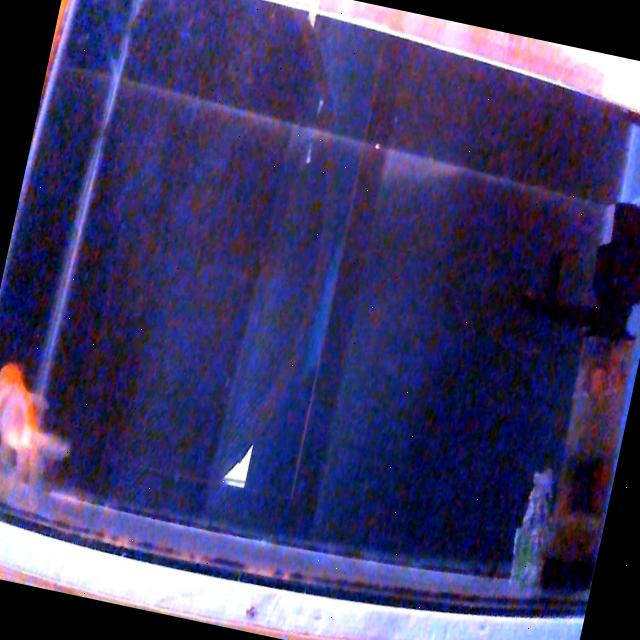fish: (0, 357, 87, 495)
